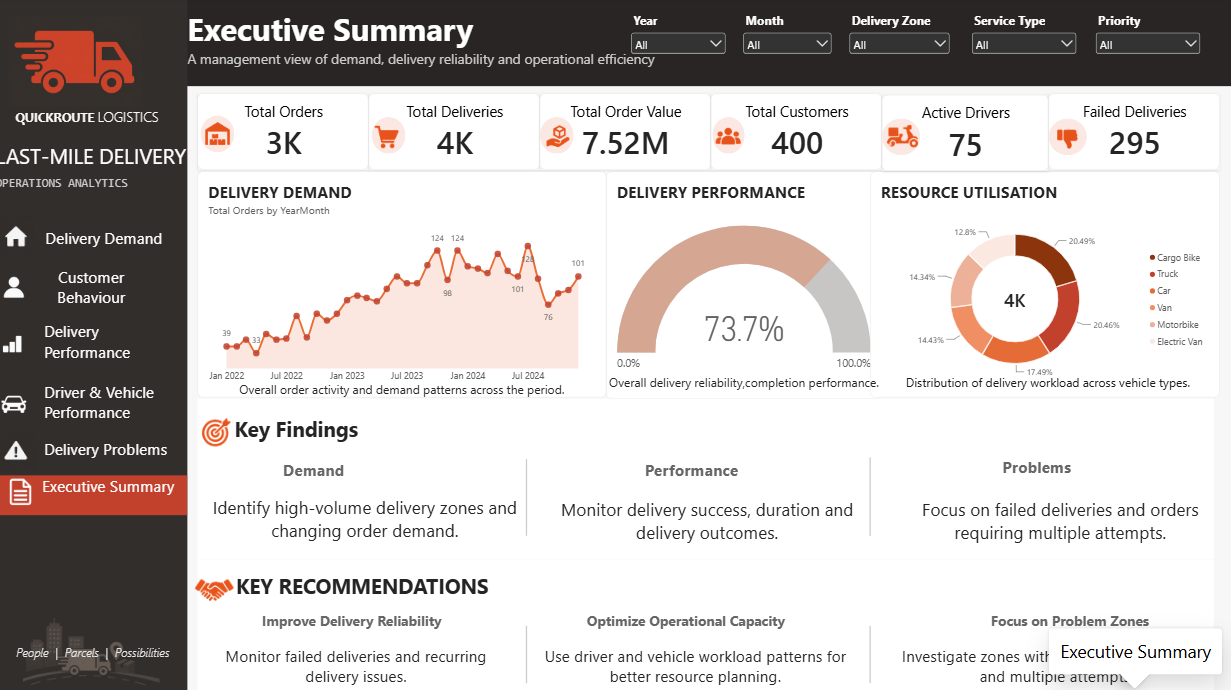

The page's visual inventory and layout, read from the dashboard file:
{"tool":"powerbi","page":{"name":"Executive Summary","canvas":[1920,1080],"ordinal":5},"visuals":[{"type":"shape","box":[0,0,1920,140],"z":0},{"type":"textbox","box":[299.4,18.3,1620.4,123.4],"z":1000},{"type":"shape","box":[0,0,299.6,1081],"z":2000},{"type":"textbox","box":[2.3,418.2,297.1,84.6],"z":3000},{"type":"textbox","box":[77.7,502.8,221.7,86.8],"z":4000},{"type":"textbox","box":[77.7,596.5,221.7,70.8],"z":5000},{"type":"textbox","box":[77.7,685.6,221.7,54.8],"z":6000},{"type":"textbox","box":[2.3,742.8,297.1,61.7],"z":7000},{"type":"image","box":[2.3,859.3,297.1,221.7],"z":8000},{"type":"image","box":[2.3,32,246.8,139.4],"z":9000},{"type":"image","box":[16,740.5,50.3,50.3],"z":10000},{"type":"image","box":[2.3,516.5,52.6,43.4],"z":11000},{"type":"image","box":[2.3,596.5,57.1,70.8],"z":12000},{"type":"image","box":[6.9,429.7,48,41.1],"z":13000},{"type":"image","box":[0,667.3,66.3,73.1],"z":14000},{"type":"slicer","fields":{"Values":["date_table.Year"]},"box":[982.7,25.1,155.4,91.4],"z":15000},{"type":"slicer","fields":{"Values":["date_table.MonthName"]},"box":[1156.4,25.1,146.3,91.4],"z":16000},{"type":"slicer","fields":{"Values":["orders (1).delivery_zone_id"]},"box":[1321,25.1,164.5,102.8],"z":17000},{"type":"slicer","fields":{"Values":["orders (1).service_type"]},"box":[1510.7,25.1,171.4,102.8],"z":18000},{"type":"slicer","fields":{"Values":["orders (1).priority"]},"box":[1702.6,25.1,171.4,102.8],"z":19000},{"type":"textbox","box":[34.3,1003.3,246.8,61.7],"z":20000},{"type":"textbox","box":[2.3,358.8,297.1,43.4],"z":21000},{"type":"image","box":[0,340.5,68.6,61.7],"z":22000},{"type":"textbox","box":[2.3,171.4,283.4,54.8],"z":23000},{"type":"textbox","box":[2.3,226.3,402.2,89.1],"z":24000},{"type":"textbox","box":[2.3,278.8,244.5,36.6],"z":25000},{"type":"cardVisual","fields":{"Data":["_Measures (2).Total Orders"]},"box":[315.4,150.8,265.1,118.8],"z":26000},{"type":"shape","box":[320,185.1,52.6,57.1],"z":27000},{"type":"image","box":[1103.9,189.7,59.4,52.6],"z":28000},{"type":"image","box":[845.6,192,54.8,54.8],"z":29000},{"type":"image","box":[847.9,187.4,52.6,59.4],"z":30000},{"type":"image","box":[587.4,192,50.3,52.6],"z":31000},{"type":"gauge","title":"DELIVERY PERFORMANCE","fields":{"Y":["_Measures (2).Delivery Success %"]},"box":[948.4,272,427.4,352],"z":32000},{"type":"donutChart","title":"RESOURCE UTILISATION","fields":{"Category":["vehicles (1).vehicle_type"],"Y":["_Measures (2).Total Deliveries"]},"box":[1357.5,272,541.6,349.7],"z":33000},{"type":"lineChart","title":"DELIVERY DEMAND","fields":{"Category":["date_table.YearMonth"],"Y":["_Measures (2).Total Orders"]},"box":[315.4,272,633.1,349.7],"z":34000},{"type":"shape","box":[315.4,873,1574.6,208],"z":35000},{"type":"textbox","box":[374.8,891.3,431.9,52.6],"z":36000},{"type":"image","box":[308.5,633.1,75.4,61.7],"z":37000},{"type":"textbox","box":[409.1,953,342.8,68.6],"z":38000},{"type":"textbox","box":[315.4,1004.6,491.4,75.4],"z":39000},{"type":"shape","box":[758.8,975.9,132.6,89.1],"z":40000},{"type":"shape","box":[1291.3,975.9,132.6,89.1],"z":41000},{"type":"textbox","box":[852.5,953,438.8,75.4],"z":42000},{"type":"textbox","box":[852.5,1005.6,468.5,75.4],"z":43000},{"type":"textbox","box":[1435.2,953,354.2,38.9],"z":44000},{"type":"textbox","box":[1403.2,1005.6,486.8,75.4],"z":45000},{"type":"cardVisual","fields":{"Data":["_Measures (2).Total Deliveries"]},"box":[580.5,150.8,265.1,118.8],"z":46000},{"type":"cardVisual","fields":{"Data":["_Measures (2).Total Order Value"]},"box":[845.6,150.8,265.1,118.8],"z":47000},{"type":"cardVisual","fields":{"Data":["_Measures (2).Total Customers"]},"box":[1110.7,150.8,265.1,118.8],"z":48000},{"type":"cardVisual","fields":{"Data":["_Measures (2).Active Drivers"]},"box":[1375.8,153.1,258.3,118.8],"z":49000},{"type":"cardVisual","fields":{"Data":["_Measures (2).Failed Deliveries"]},"box":[1634.1,150.8,265.1,118.8],"z":50000},{"type":"shape","box":[585.1,187.4,52.6,57.1],"z":51000},{"type":"shape","box":[845.6,187.4,52.6,57.1],"z":52000},{"type":"shape","box":[1113,187.4,50.3,57.1],"z":53000},{"type":"shape","box":[1375.8,189.7,59.4,57.1],"z":54000},{"type":"shape","box":[1634.1,189.7,59.4,57.1],"z":55000},{"type":"image","box":[315.4,171.4,59.4,86.8],"z":56000},{"type":"image","box":[1375.8,182.8,64,64],"z":57000},{"type":"image","box":[850.2,185.1,48,68.6],"z":58000},{"type":"image","box":[1110.7,192,54.8,52.6],"z":59000},{"type":"image","box":[1629.5,198.8,66.3,43.4],"z":60000},{"type":"image","box":[582.8,194.3,59.4,50.3],"z":61000},{"type":"textbox","box":[1375.8,585.1,514.2,36.6],"z":63000},{"type":"textbox","box":[900.5,585.1,523.4,48],"z":64000},{"type":"textbox","box":[315.4,596.5,633.1,36.6],"z":65000},{"type":"shape","box":[315.4,623.9,1574.6,249.1],"z":66000},{"type":"textbox","box":[372.5,649.1,240,66.3],"z":67000},{"type":"image","box":[310.8,646.8,66.3,66.3],"z":68000},{"type":"textbox","box":[447.9,717.6,139.4,57.1],"z":69000},{"type":"textbox","box":[324.5,774.8,500.5,84.6],"z":70000},{"type":"shape","box":[758.8,717.6,132.6,118.8],"z":71000},{"type":"shape","box":[1291.3,715.3,132.6,121.1],"z":72000},{"type":"textbox","box":[861.6,717.6,438.8,48],"z":73000},{"type":"textbox","box":[1412.4,713,406.8,52.6],"z":74000},{"type":"textbox","box":[1405.5,777,493.6,96],"z":75000},{"type":"textbox","box":[852.5,777,505.1,82.3],"z":76000},{"type":"image","box":[294.8,891.3,89.1,61.7],"z":76001}]}

Visuals, with their boxes on the page's 1920x1080 design canvas (x1, y1, x2, y2). These are canvas units, not pixel positions in the 1231x690 screenshot, which may show the page scaled, cropped or inside an application window:
shape: left=0, top=0, right=1920, bottom=140
textbox: left=299, top=18, right=1920, bottom=142
shape: left=0, top=0, right=300, bottom=1081
textbox: left=2, top=418, right=299, bottom=503
textbox: left=78, top=503, right=299, bottom=590
textbox: left=78, top=596, right=299, bottom=667
textbox: left=78, top=686, right=299, bottom=740
textbox: left=2, top=743, right=299, bottom=804
image: left=2, top=859, right=299, bottom=1081
image: left=2, top=32, right=249, bottom=171
image: left=16, top=740, right=66, bottom=791
image: left=2, top=516, right=55, bottom=560
image: left=2, top=596, right=59, bottom=667
image: left=7, top=430, right=55, bottom=471
image: left=0, top=667, right=66, bottom=740
slicer - date_table.Year: left=983, top=25, right=1138, bottom=116
slicer - date_table.MonthName: left=1156, top=25, right=1303, bottom=116
slicer - orders (1).delivery_zone_id: left=1321, top=25, right=1486, bottom=128
slicer - orders (1).service_type: left=1511, top=25, right=1682, bottom=128
slicer - orders (1).priority: left=1703, top=25, right=1874, bottom=128
textbox: left=34, top=1003, right=281, bottom=1065
textbox: left=2, top=359, right=299, bottom=402
image: left=0, top=340, right=69, bottom=402
textbox: left=2, top=171, right=286, bottom=226
textbox: left=2, top=226, right=404, bottom=315
textbox: left=2, top=279, right=247, bottom=315
cardVisual - _Measures (2).Total Orders: left=315, top=151, right=580, bottom=270
shape: left=320, top=185, right=373, bottom=242
image: left=1104, top=190, right=1163, bottom=242
image: left=846, top=192, right=900, bottom=247
image: left=848, top=187, right=900, bottom=247
image: left=587, top=192, right=638, bottom=245
"DELIVERY PERFORMANCE" gauge: left=948, top=272, right=1376, bottom=624
"RESOURCE UTILISATION" donutChart: left=1358, top=272, right=1899, bottom=622
"DELIVERY DEMAND" lineChart: left=315, top=272, right=948, bottom=622
shape: left=315, top=873, right=1890, bottom=1081
textbox: left=375, top=891, right=807, bottom=944
image: left=308, top=633, right=384, bottom=695
textbox: left=409, top=953, right=752, bottom=1022
textbox: left=315, top=1005, right=807, bottom=1080
shape: left=759, top=976, right=891, bottom=1065
shape: left=1291, top=976, right=1424, bottom=1065
textbox: left=852, top=953, right=1291, bottom=1028
textbox: left=852, top=1006, right=1321, bottom=1081
textbox: left=1435, top=953, right=1789, bottom=992
textbox: left=1403, top=1006, right=1890, bottom=1081
cardVisual - _Measures (2).Total Deliveries: left=580, top=151, right=846, bottom=270
cardVisual - _Measures (2).Total Order Value: left=846, top=151, right=1111, bottom=270
cardVisual - _Measures (2).Total Customers: left=1111, top=151, right=1376, bottom=270
cardVisual - _Measures (2).Active Drivers: left=1376, top=153, right=1634, bottom=272
cardVisual - _Measures (2).Failed Deliveries: left=1634, top=151, right=1899, bottom=270
shape: left=585, top=187, right=638, bottom=244
shape: left=846, top=187, right=898, bottom=244
shape: left=1113, top=187, right=1163, bottom=244
shape: left=1376, top=190, right=1435, bottom=247
shape: left=1634, top=190, right=1694, bottom=247
image: left=315, top=171, right=375, bottom=258
image: left=1376, top=183, right=1440, bottom=247
image: left=850, top=185, right=898, bottom=254
image: left=1111, top=192, right=1166, bottom=245
image: left=1630, top=199, right=1696, bottom=242
image: left=583, top=194, right=642, bottom=245
textbox: left=1376, top=585, right=1890, bottom=622
textbox: left=900, top=585, right=1424, bottom=633
textbox: left=315, top=596, right=948, bottom=633
shape: left=315, top=624, right=1890, bottom=873
textbox: left=372, top=649, right=612, bottom=715
image: left=311, top=647, right=377, bottom=713
textbox: left=448, top=718, right=587, bottom=775
textbox: left=324, top=775, right=825, bottom=859
shape: left=759, top=718, right=891, bottom=836
shape: left=1291, top=715, right=1424, bottom=836
textbox: left=862, top=718, right=1300, bottom=766
textbox: left=1412, top=713, right=1819, bottom=766
textbox: left=1406, top=777, right=1899, bottom=873
textbox: left=852, top=777, right=1358, bottom=859
image: left=295, top=891, right=384, bottom=953
